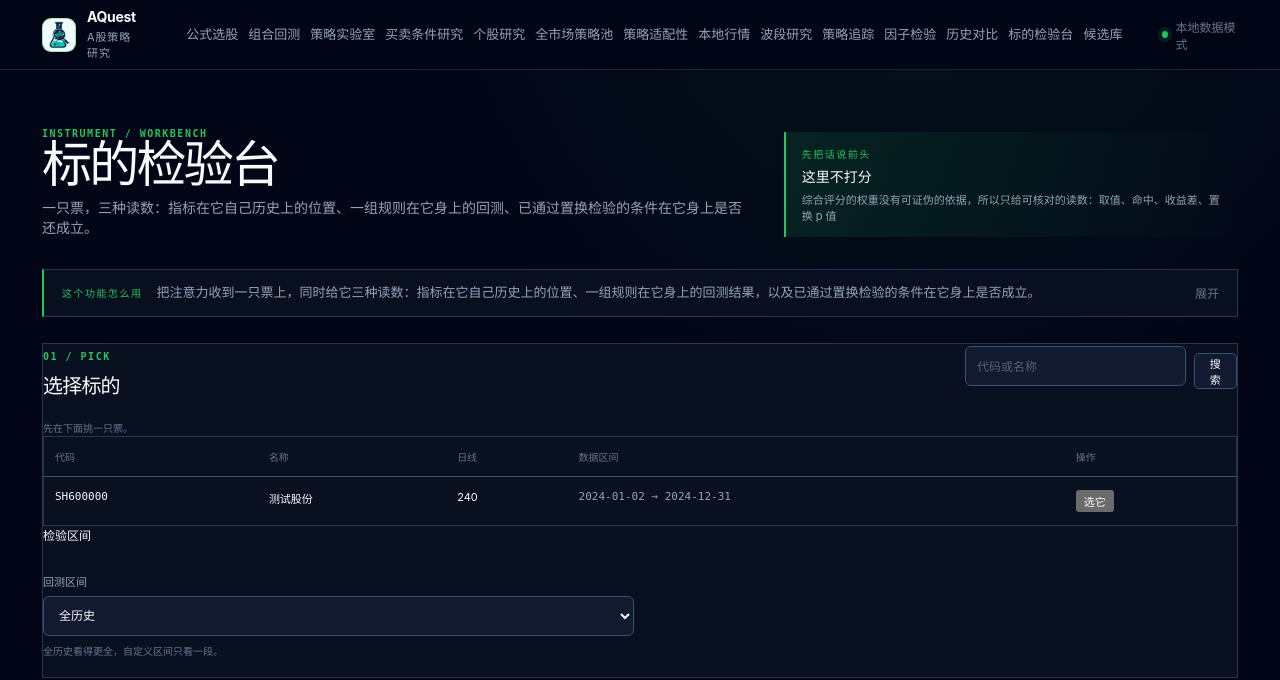
Test case: InstrumentLabPage › reads the picked indicators and shows the self-history percentile
Click the button with test id "lab-pick-600000" at (1095, 500), box [1076, 490, 1114, 512]
(page scrolled)
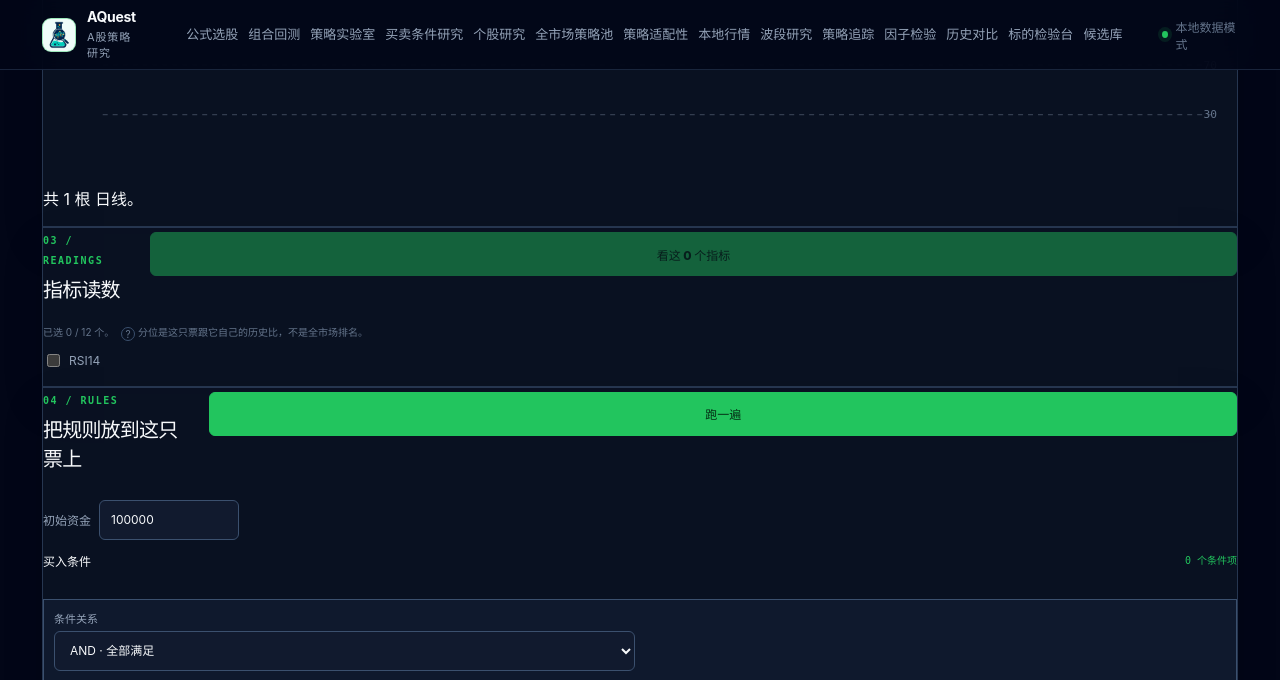
Click the checkbox with test id "lab-value-technical.rsi14" at (54, 360), box [47, 354, 60, 366]
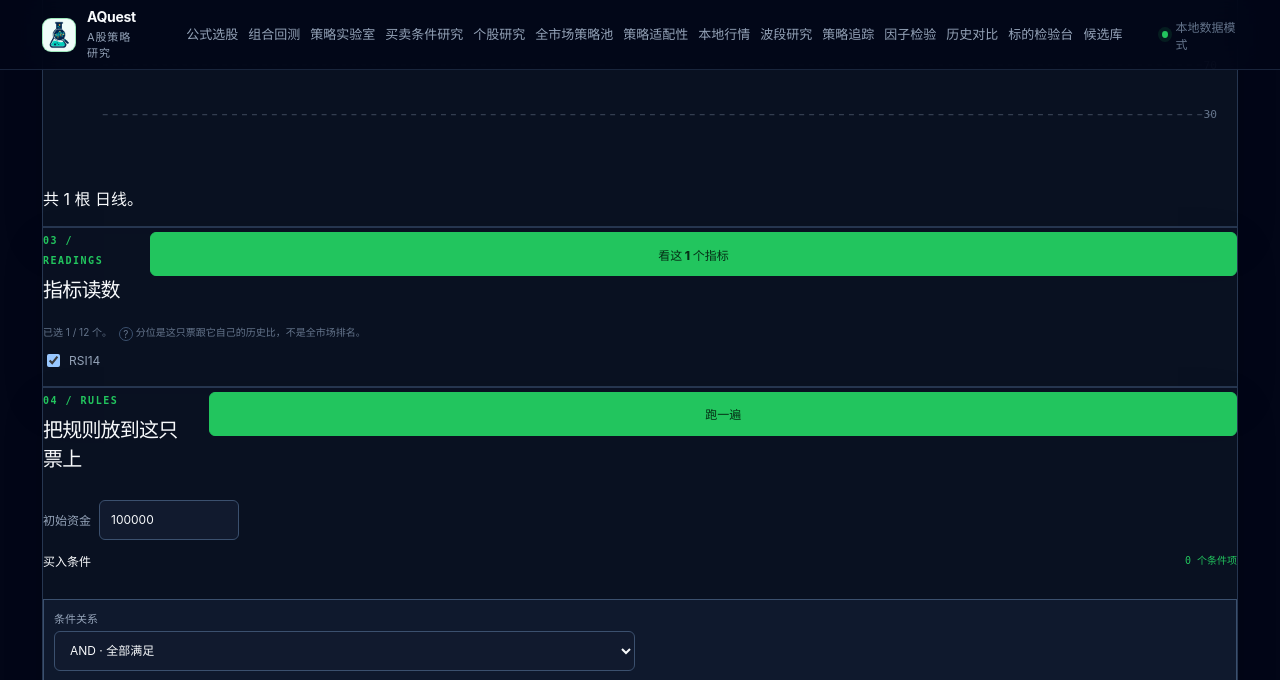
Click the button with test id "lab-read-values" at (693, 254), box [150, 232, 1237, 276]
(page scrolled)
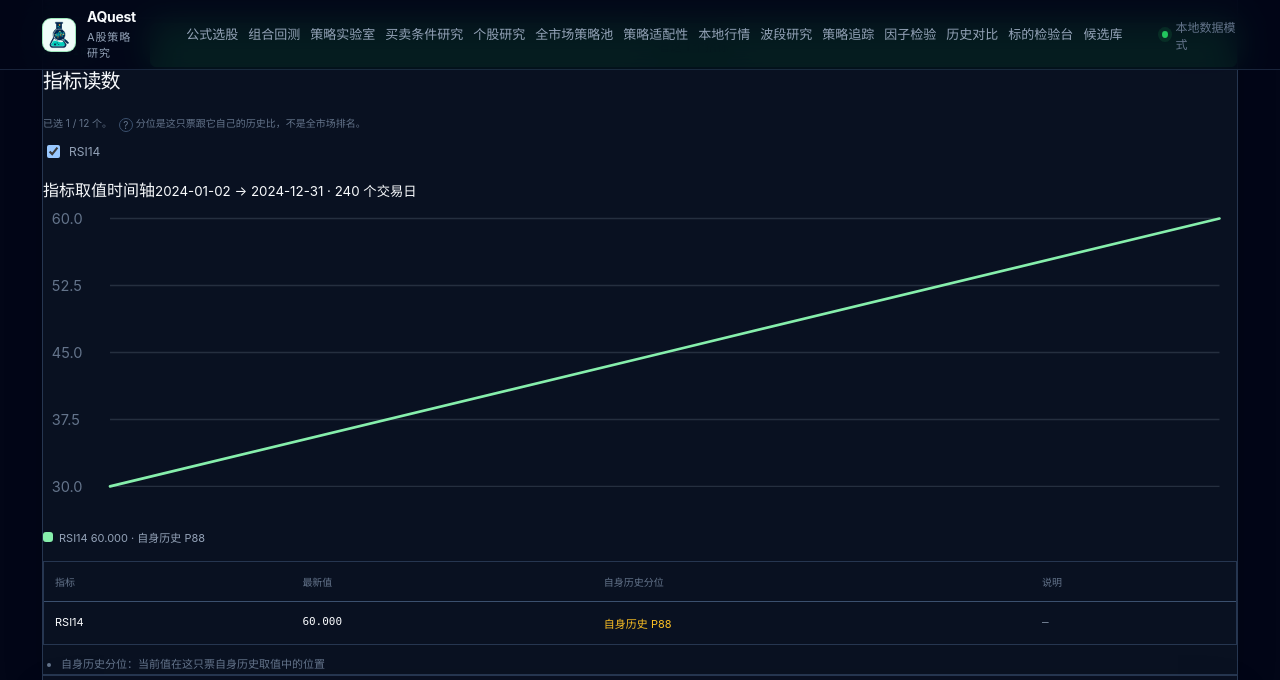
Now the text "自身历史 P88" is shown, box [59, 531, 205, 545]
Now the element with test id "lab-values-chart" is shown, box [43, 176, 1237, 545]
